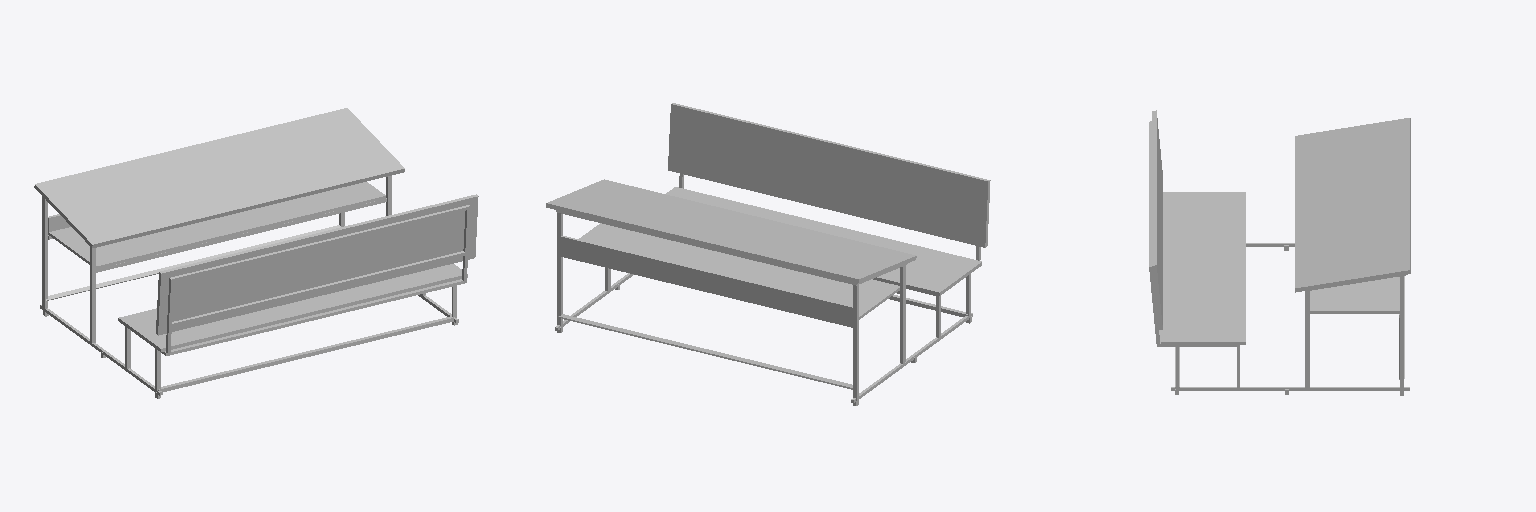
The model's file is classroom_desk.obj.
3 renders of one model, left to right at view 1: azimuth 30°, elevation 25°; view 2: azimuth 150°, elevation 25°; view 3: azimuth 270°, elevation 25°, orthographic.
Visible parts, largest first — view 1: Cube, Cube.027, Cube.007, Cube.022, Cube.018, Cube.019, Cube.025, Cube.026, Cube.008, Cube.011, Cube.006, Cube.012 (+1 smaller); view 2: Cube.027, Cube, Cube.007, Cube.010, Cube.022, Cube.011, Cube.001, Cube.006, Cube.012, Cube.005, Cube.003; view 3: Cube, Cube.022, Cube.007, Cube.027, Cube.013.
Boxes of the visible parts, x1,y1,x2,y2 form: Cube: [34, 108, 404, 247]; Cube.027: [156, 194, 478, 335]; Cube.007: [49, 182, 385, 268]; Cube.022: [118, 264, 467, 351]; Cube.018: [158, 316, 455, 391]; Cube.019: [125, 279, 464, 355]; Cube.025: [171, 206, 469, 281]; Cube.026: [172, 251, 464, 326]; Cube.008: [96, 198, 386, 272]; Cube.011: [46, 225, 340, 300]; Cube.006: [42, 196, 47, 310]; Cube.012: [40, 305, 162, 395]; Cube.027: [668, 103, 990, 247]; Cube: [546, 179, 916, 283]; Cube.007: [579, 223, 899, 319]; Cube.010: [561, 236, 852, 327]; Cube.022: [666, 187, 981, 295]; Cube.011: [558, 314, 852, 389]; Cube.001: [556, 210, 906, 285]; Cube.006: [853, 284, 858, 400]; Cube.012: [851, 313, 972, 403]; Cube.005: [557, 213, 562, 327]; Cube.003: [900, 265, 905, 363]; Cube: [1295, 118, 1410, 292]; Cube.022: [1161, 192, 1245, 344]; Cube.007: [1310, 277, 1399, 313]; Cube.027: [1152, 110, 1162, 329]; Cube.013: [1171, 387, 1409, 390].
Size of the model in its own units: 9.1 by 3.73 by 6.52.